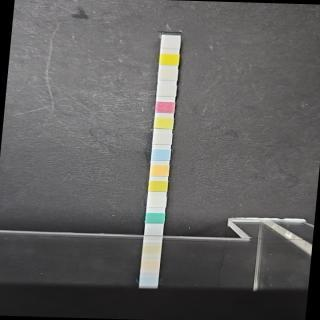mark: (148, 195, 166, 208), (146, 212, 164, 224), (150, 180, 168, 192), (151, 164, 169, 176), (152, 148, 170, 160), (153, 132, 171, 144), (155, 116, 173, 128), (156, 101, 174, 113), (158, 69, 176, 81), (160, 53, 178, 65), (157, 85, 175, 96), (162, 38, 180, 49)
